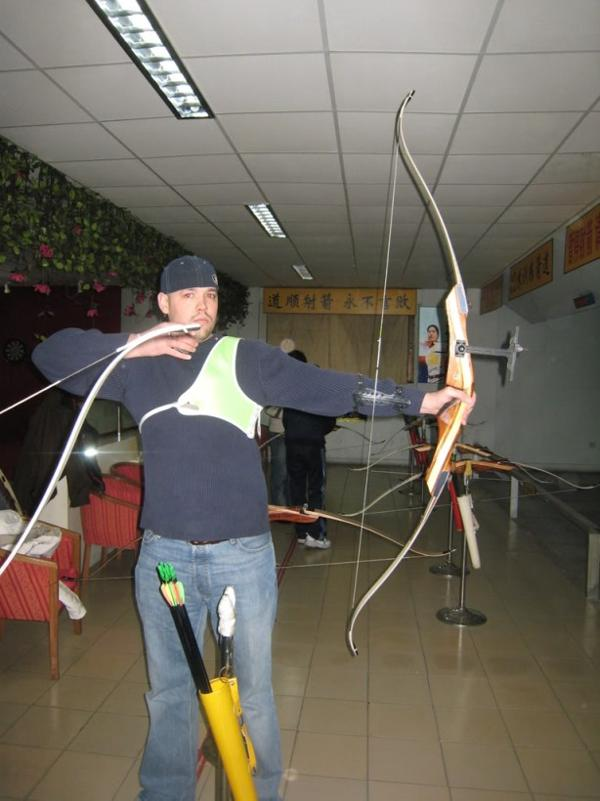person: (29, 240, 478, 801)
